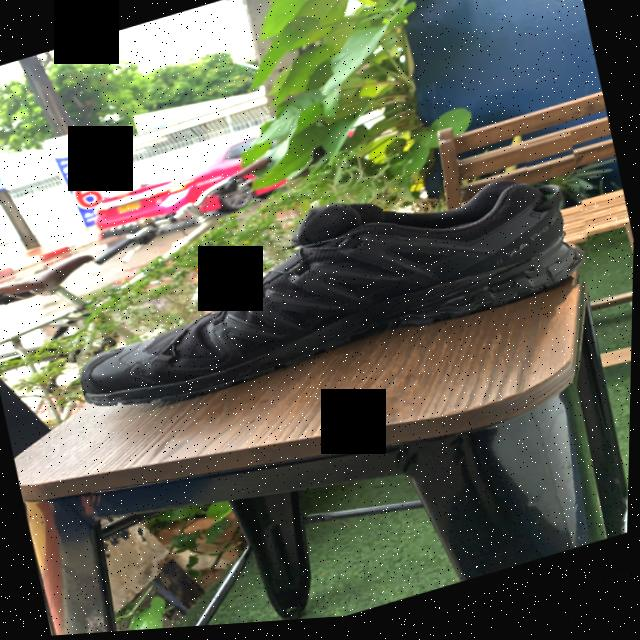shoe: (58, 134, 605, 431)
